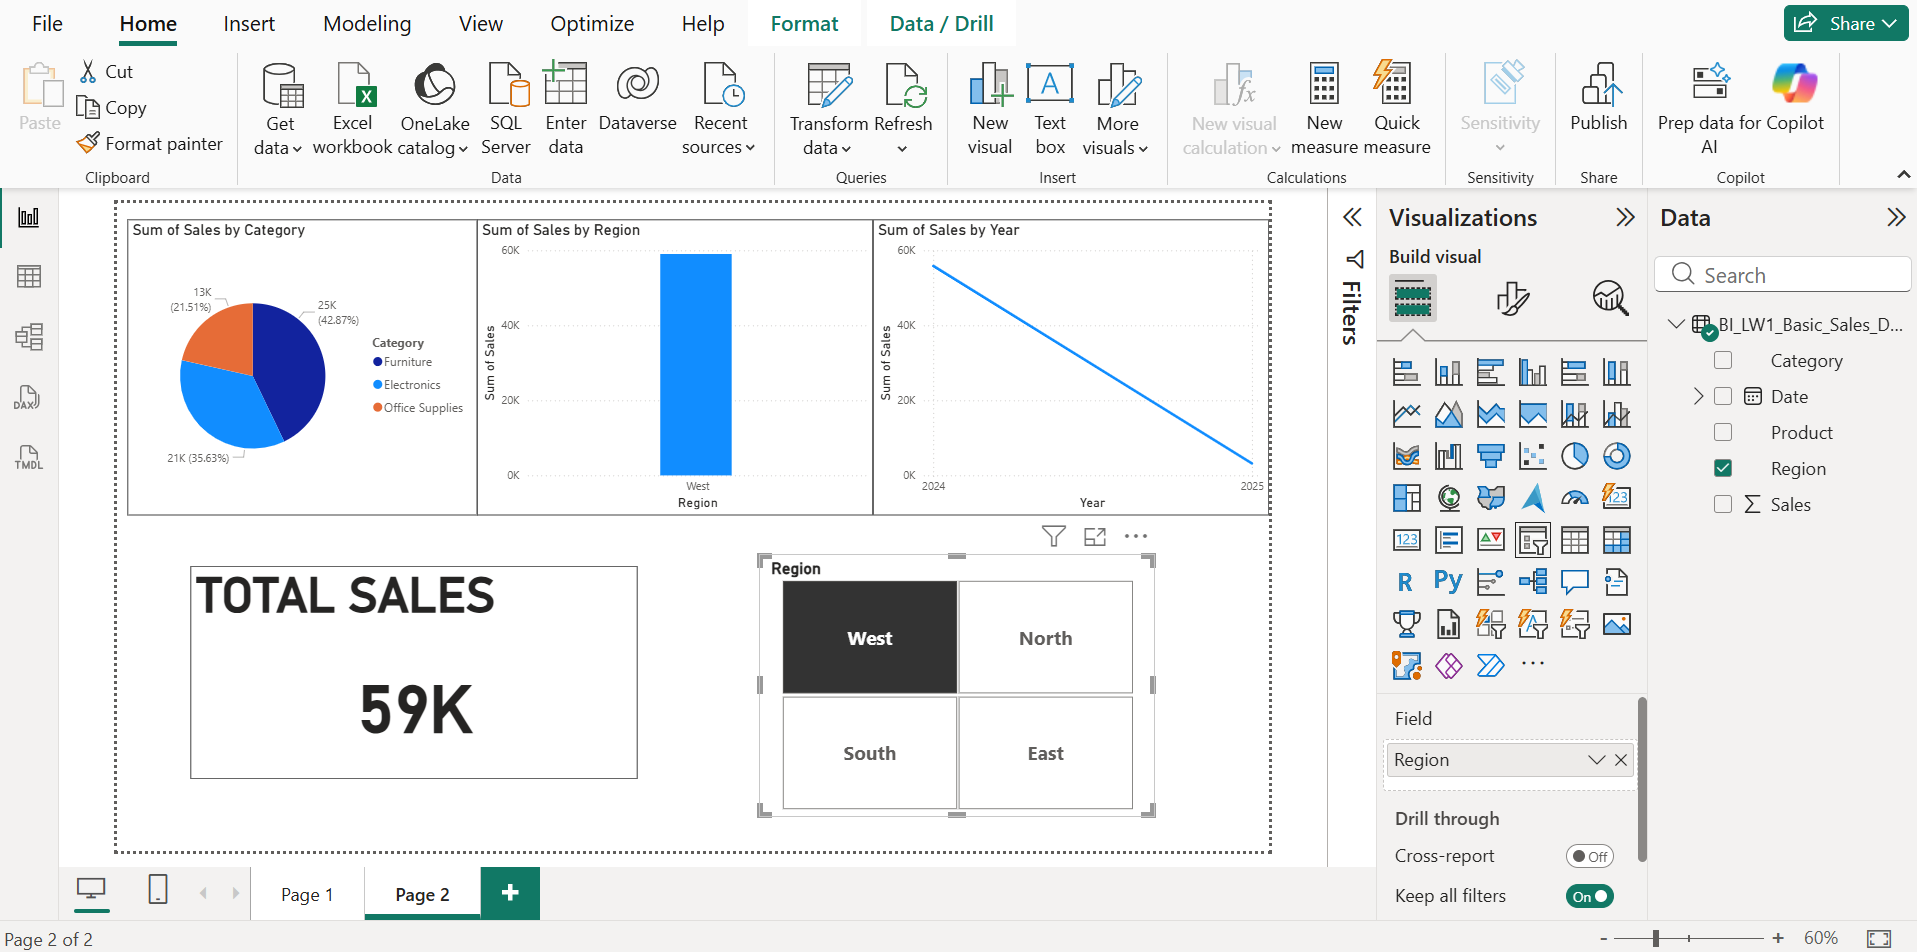

This screenshot's page, from the dashboard's own definition file:
{"tool":"powerbi","page":{"name":"Page 2","canvas":[1280,720],"ordinal":1},"visuals":[{"type":"card","title":"Total Sales","fields":{"Values":["Sum(BI_LW1_Basic_Sales_Data.Sales)"]},"box":[419.4,397.2,352.8,283.3],"z":0},{"type":"clusteredColumnChart","fields":{"Category":["BI_LW1_Basic_Sales_Data.Region"],"Y":["Sum(BI_LW1_Basic_Sales_Data.Sales)"]},"box":[22.2,27.8,375,333.3],"z":1000},{"type":"pieChart","fields":{"Category":["BI_LW1_Basic_Sales_Data.Category"],"Y":["Sum(BI_LW1_Basic_Sales_Data.Sales)"]},"box":[397.2,27.8,375,330.6],"z":2000},{"type":"lineChart","fields":{"Category":["BI_LW1_Basic_Sales_Data.Date.Variation.Date Hierarchy.Year","BI_LW1_Basic_Sales_Data.Date.Variation.Date Hierarchy.Quarter","BI_LW1_Basic_Sales_Data.Date.Variation.Date Hierarchy.Month","BI_LW1_Basic_Sales_Data.Date.Variation.Date Hierarchy.Day"],"Y":["Sum(BI_LW1_Basic_Sales_Data.Sales)"]},"box":[22,371,375,333],"z":2001},{"type":"slicer","fields":{"Values":["BI_LW1_Basic_Sales_Data.Region"]},"box":[838.5,209.2,375.4,329.2],"z":2002}]}

Visuals, with their boxes on the page's 1280x720 design canvas (x1, y1, x2, y2). These are canvas units, not pixel positions in the 1917x952 screenshot, which may show the page scaled, cropped or inside an application window:
"Total Sales" card: {"x1": 419, "y1": 397, "x2": 772, "y2": 680}
clusteredColumnChart - BI_LW1_Basic_Sales_Data.Region x Sum(BI_LW1_Basic_Sales_Data.Sales): {"x1": 22, "y1": 28, "x2": 397, "y2": 361}
pieChart - BI_LW1_Basic_Sales_Data.Category x Sum(BI_LW1_Basic_Sales_Data.Sales): {"x1": 397, "y1": 28, "x2": 772, "y2": 358}
lineChart - BI_LW1_Basic_Sales_Data.Date.Variation.Date Hierarchy.Year x BI_LW1_Basic_Sales_Data.Date.Variation.Date Hierarchy.Quarter: {"x1": 22, "y1": 371, "x2": 397, "y2": 704}
slicer - BI_LW1_Basic_Sales_Data.Region: {"x1": 838, "y1": 209, "x2": 1214, "y2": 538}
